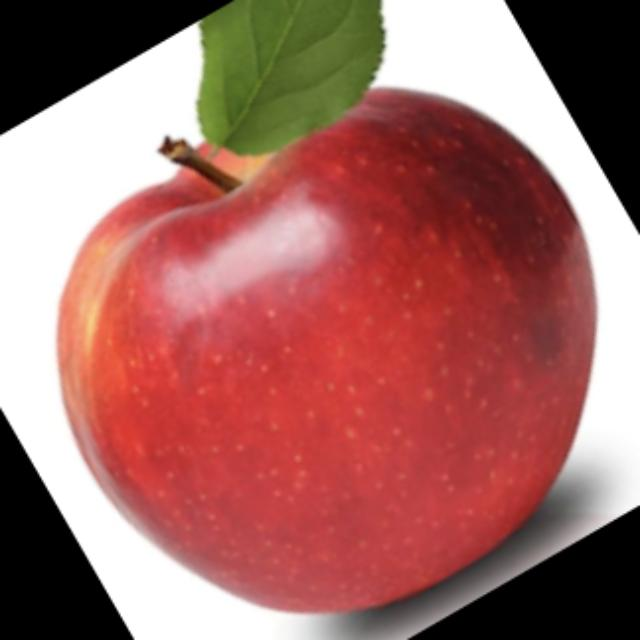Apel Segar: (62, 84, 598, 612)
